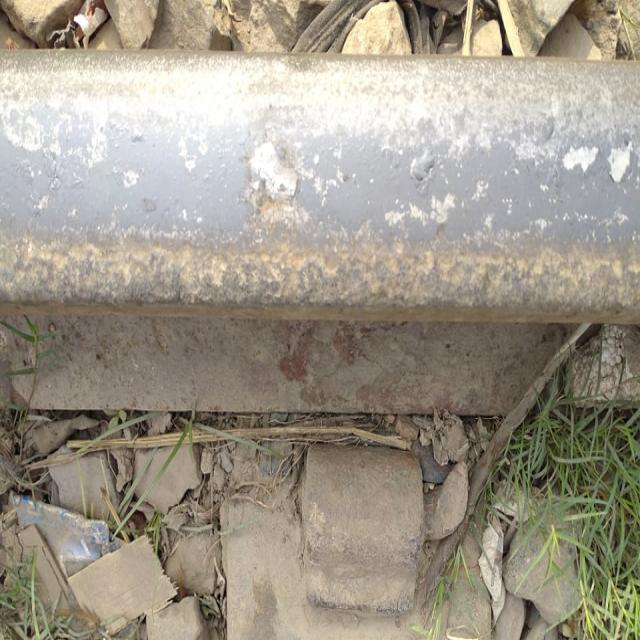head_checks_low: (106, 243, 437, 303), (246, 134, 302, 214), (562, 129, 633, 189)
